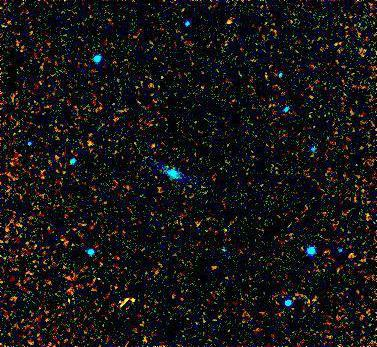star: (216, 4, 246, 34)
